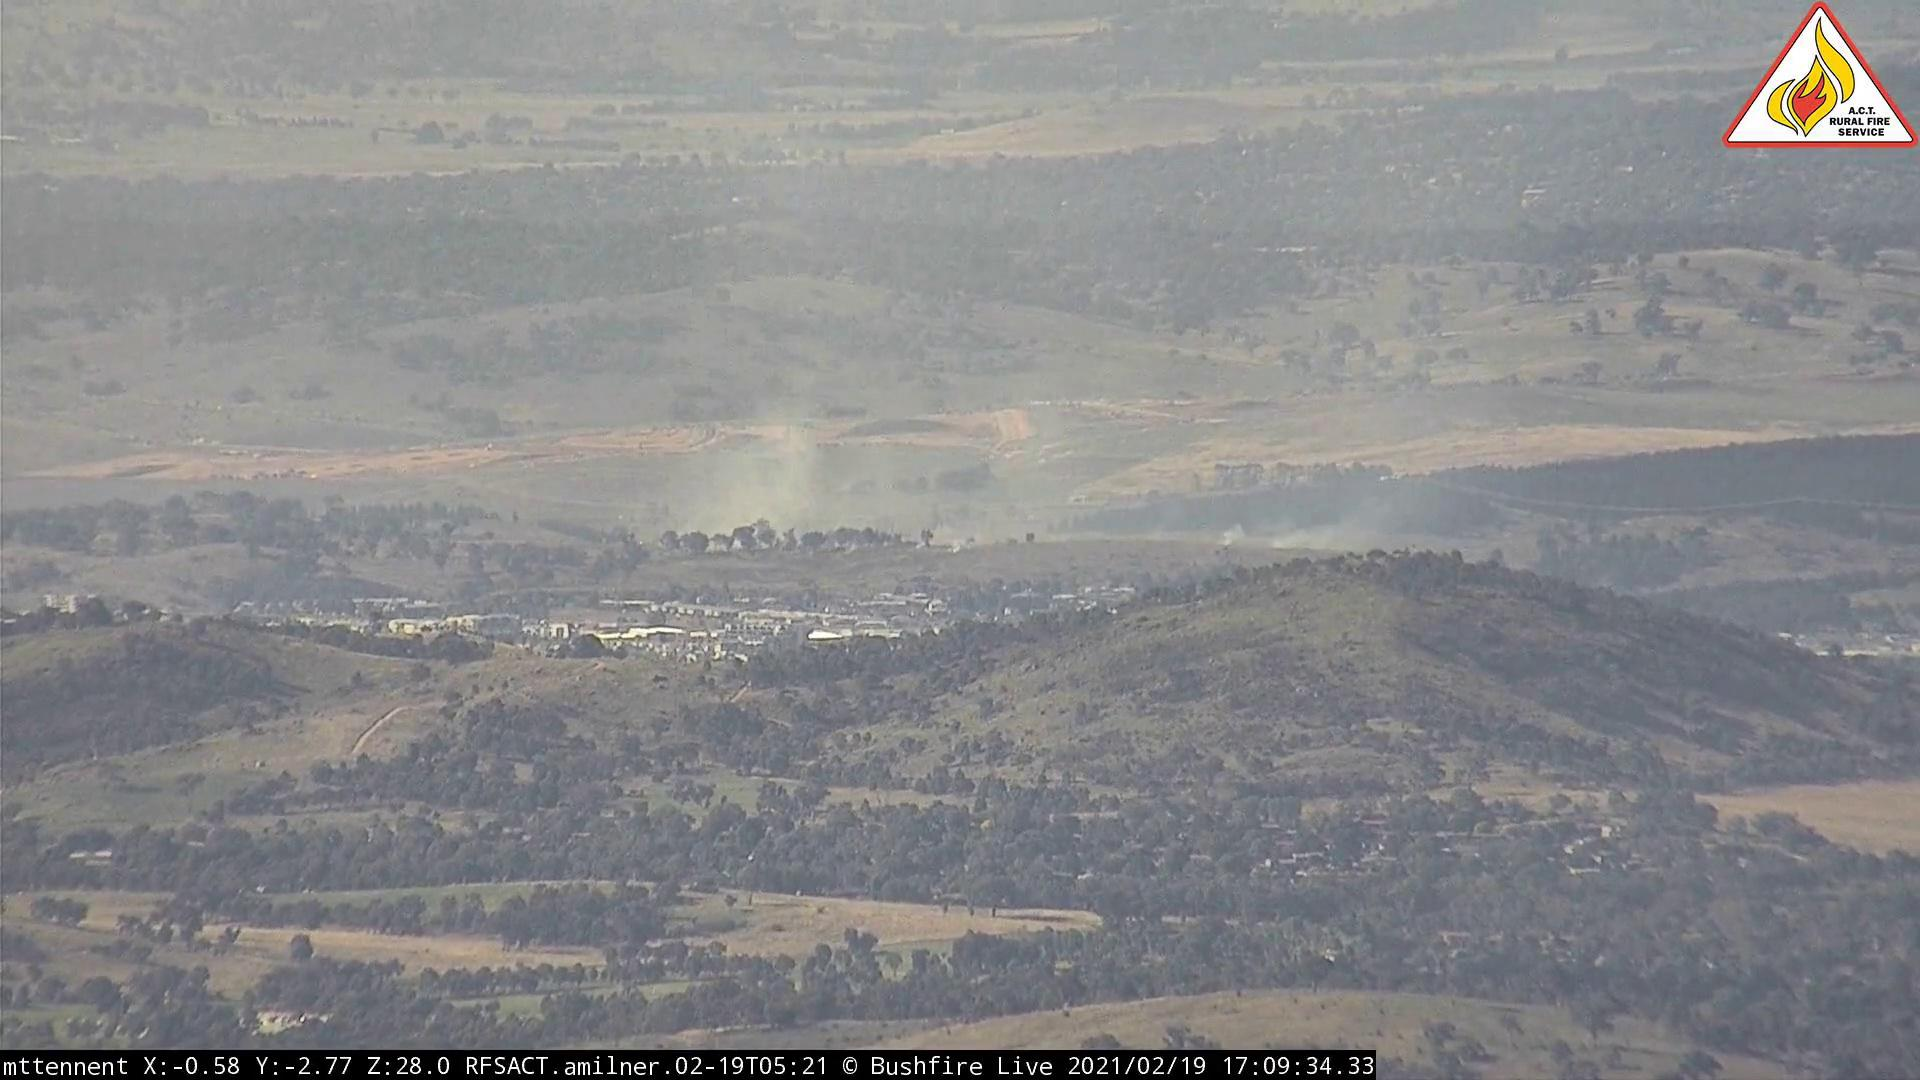Smoke: (659, 334, 1033, 568), (1220, 447, 1472, 559)
